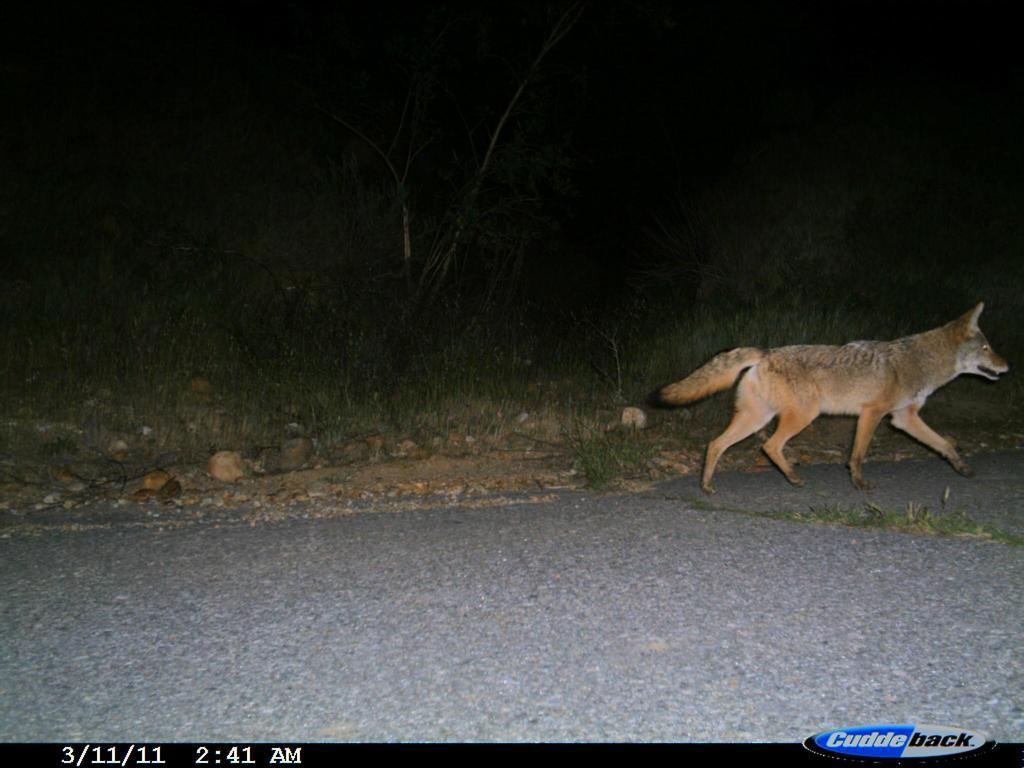coyote: (643, 299, 1016, 501)
